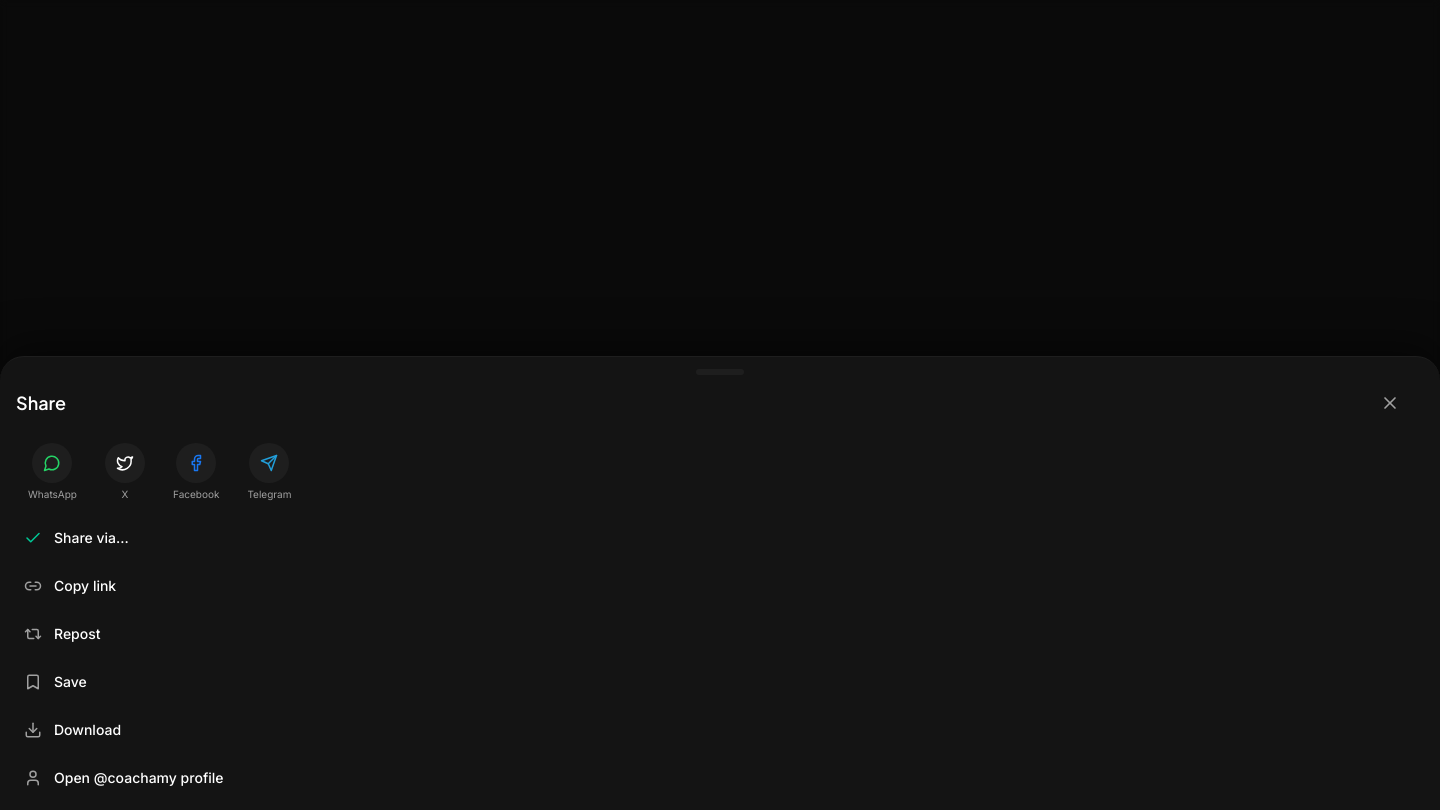
PostShareSheet share action › shows an inline error and keeps stale state untouched on failure
The image size is (1440, 810).
Click the button with aria-label "Copy post link": (85, 586) [8, 562, 1432, 610]
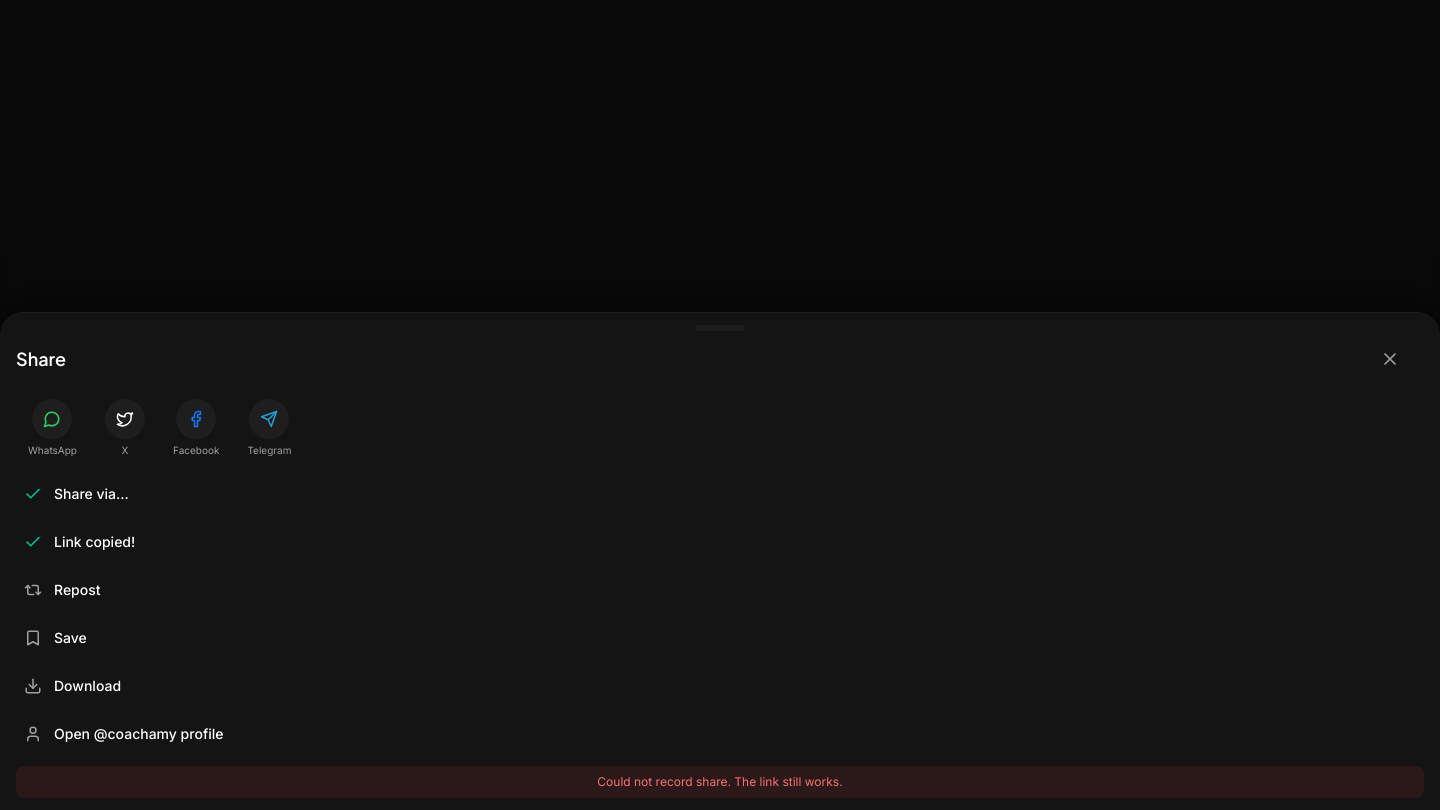
Check: the message shows "Could not record share", box [597, 774, 843, 789]
